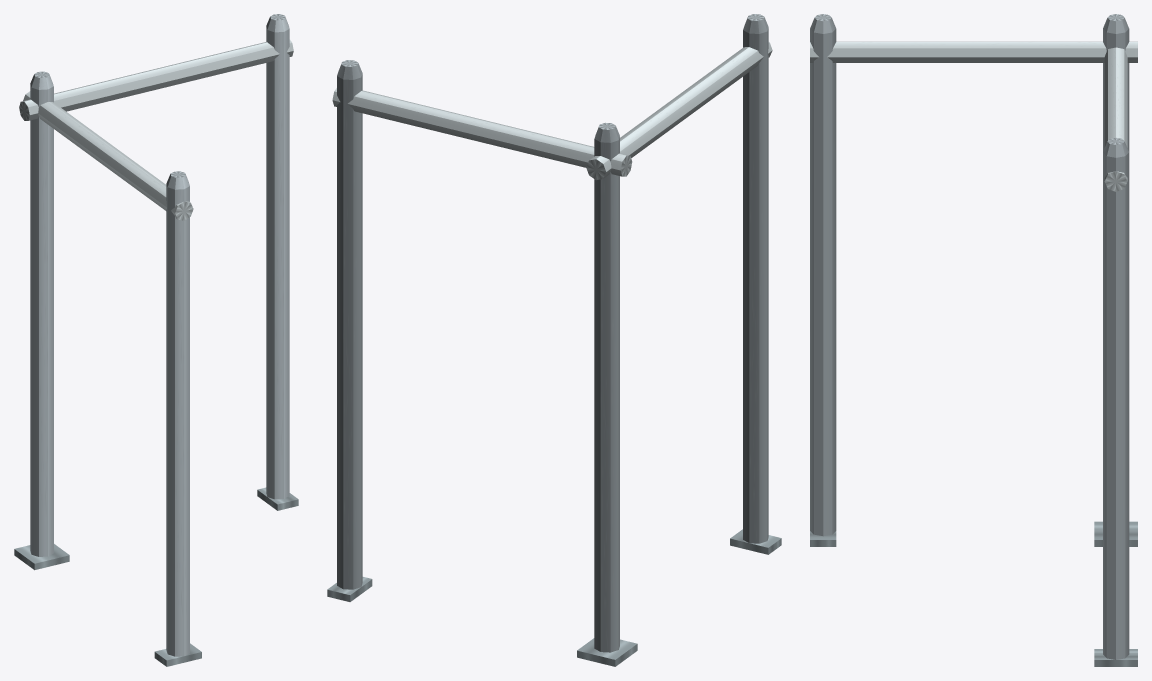
File: pool_guardrail_corner.glb
The picture shows the model from 3 angles, left to right: view 1: azimuth 30°, elevation 25°; view 2: azimuth 150°, elevation 25°; view 3: azimuth 270°, elevation 25°; orthographic projection. The views are drawn at different scales.
Parts seen in each view (by area): view 1: core_pool_guardrail_corner; view 2: core_pool_guardrail_corner; view 3: core_pool_guardrail_corner.
Boxes of the visible parts, <box> form: core_pool_guardrail_corner: <box>14,14,298,666</box>; core_pool_guardrail_corner: <box>327,14,781,666</box>; core_pool_guardrail_corner: <box>810,14,1137,666</box>.
Bounding box in the file's own units: 0.6 × 1.05 × 0.6.
Materials: 1 (1 with a texture image).
